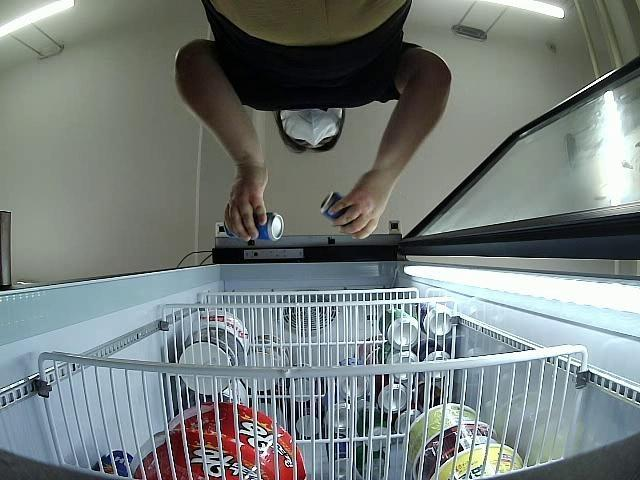15_letsbe: (223, 210, 286, 241), (317, 192, 362, 229)
